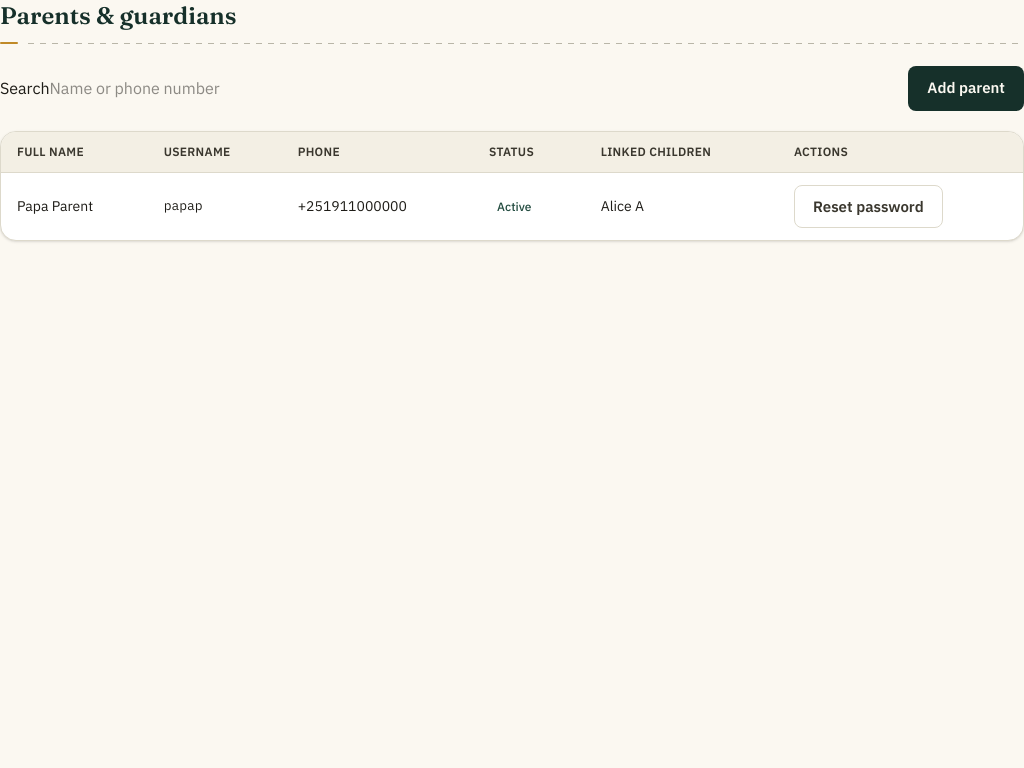
Scenario: ParentsPage — admin password reset › clicking Reset password opens a modal with a reason field
This screenshot has width=1024, height=768.
Click the button "Reset password".
click(868, 206)  # box x1=794 y1=184 x2=943 y2=228
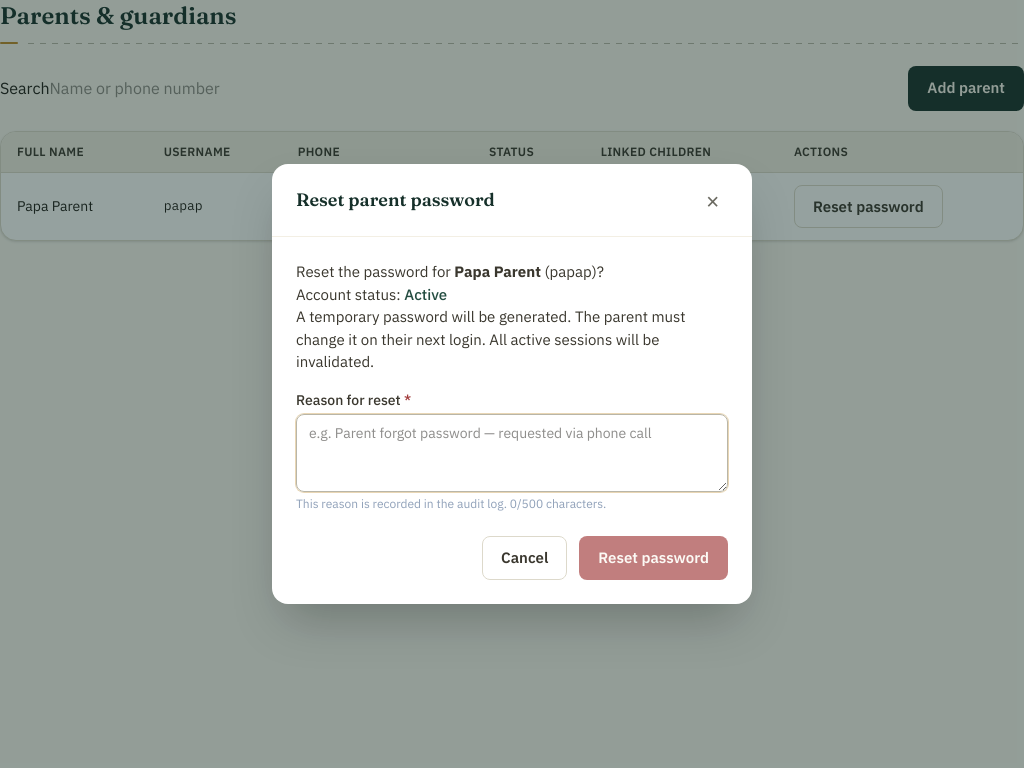
Now the text "Reason for reset *" is shown, box x1=296 y1=390 x2=411 y2=408
Now the text box with placeholder "e.g. Parent forgot password — requested via phone call" is shown, box x1=296 y1=414 x2=728 y2=492
